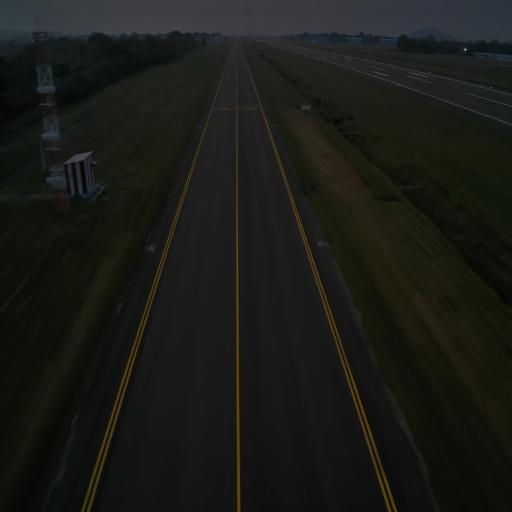on: (319, 237, 323, 244), (150, 241, 153, 249), (199, 122, 201, 127), (273, 122, 275, 126)
